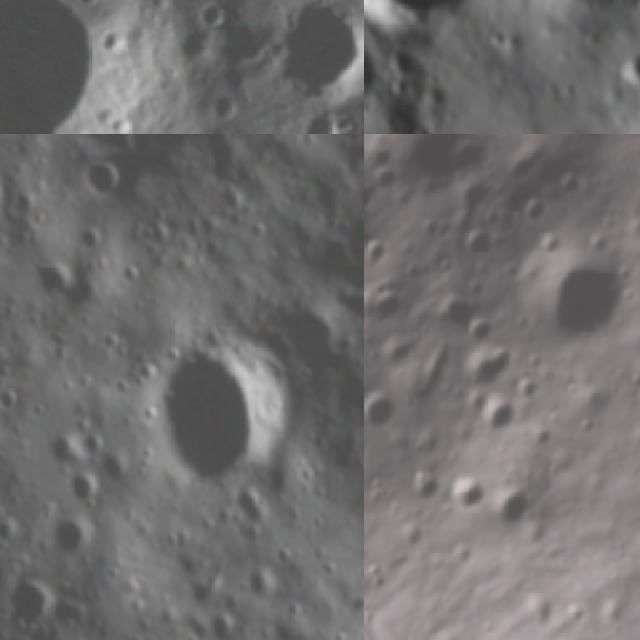crater: (143, 330, 296, 490), (0, 0, 171, 134), (508, 224, 640, 370), (254, 0, 364, 108), (436, 327, 523, 416), (412, 282, 499, 357), (478, 471, 544, 549), (0, 572, 61, 634), (335, 217, 364, 342), (436, 462, 492, 523), (42, 514, 104, 562), (364, 375, 410, 438), (24, 256, 76, 308), (456, 215, 506, 268), (401, 454, 448, 508), (513, 183, 561, 234), (80, 152, 126, 203), (234, 564, 285, 605), (60, 469, 105, 511), (43, 428, 79, 470), (364, 234, 395, 281), (382, 47, 424, 80), (75, 429, 111, 464), (68, 222, 105, 256), (613, 51, 640, 97), (0, 384, 28, 421), (482, 28, 511, 52), (386, 74, 410, 101), (119, 262, 141, 287), (353, 183, 364, 220), (410, 123, 437, 134)
